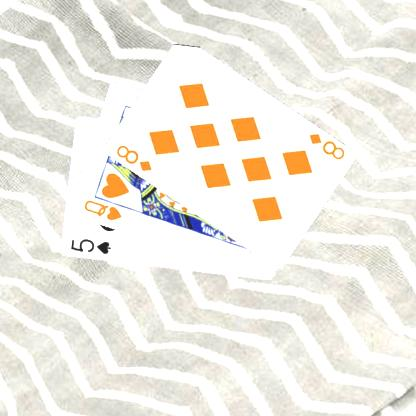5S: (67, 236, 112, 256)
8D: (112, 142, 154, 173), (305, 130, 346, 161)
QH: (81, 197, 123, 222)
